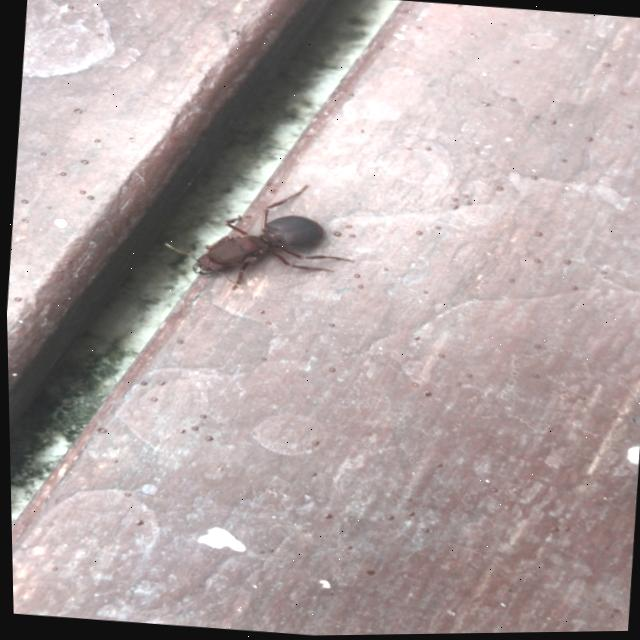Alive-Female-Dealate: (158, 172, 361, 302)
